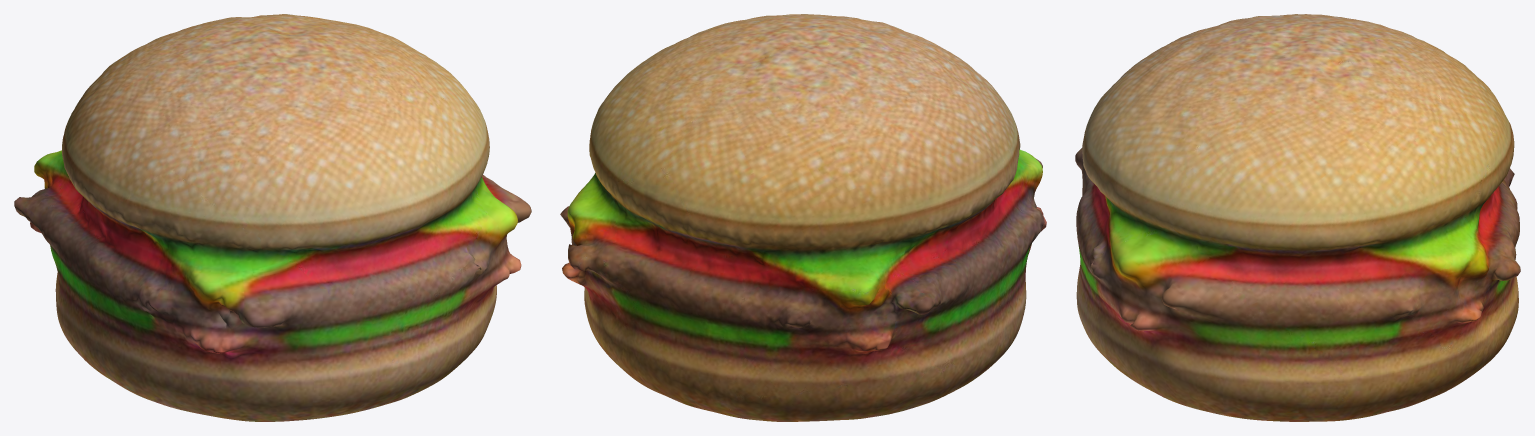
3 views of the same model, side by side, from view 1: azimuth 30°, elevation 25°; view 2: azimuth 150°, elevation 25°; view 3: azimuth 270°, elevation 25° (orthographic).
Parts seen in each view (by area): view 1: Mesh1; view 2: Mesh1; view 3: Mesh1.
Boxes of the visible parts, x1=… form: Mesh1: x1=14, y1=14, x2=531, y2=421; Mesh1: x1=560, y1=14, x2=1046, y2=421; Mesh1: x1=1075, y1=14, x2=1520, y2=421.
Bounding box in the file's own units: 1.2 × 0.9446 × 1.2.
Materials: 1 (1 with a texture image).
